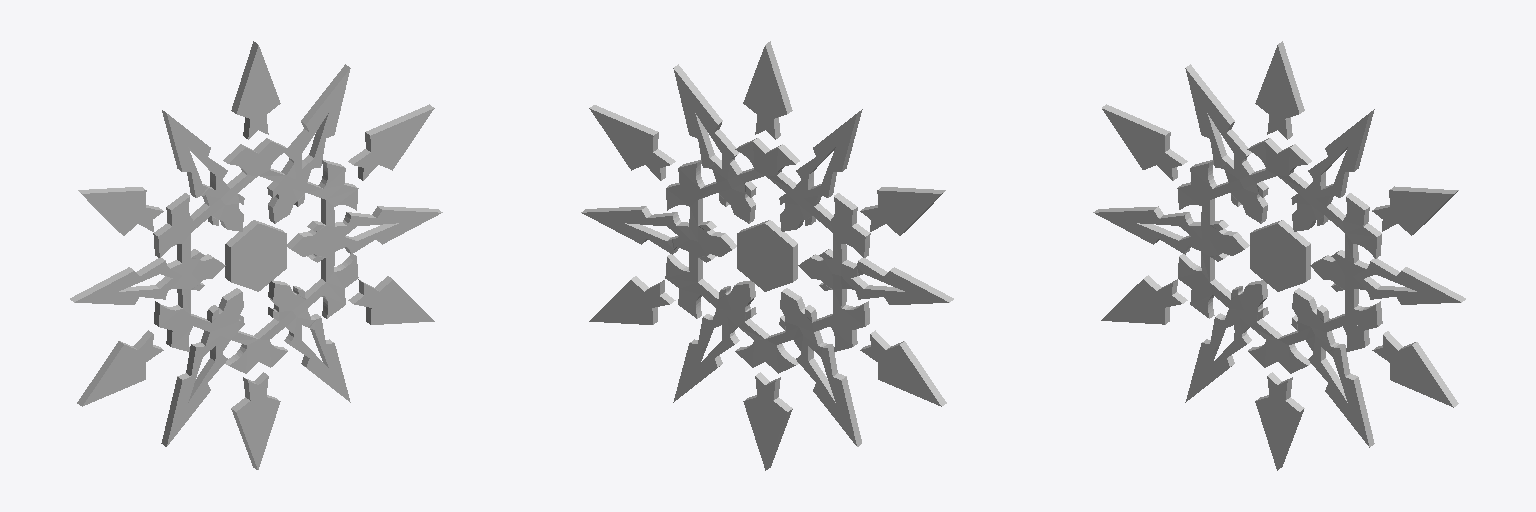
Rendered from snow.obj.
The picture shows the model from 3 angles: view 1: azimuth 30°, elevation 25°; view 2: azimuth 150°, elevation 25°; view 3: azimuth 330°, elevation 25°; orthographic projection.
Visible parts, largest first — view 1: snow; view 2: snow; view 3: snow.
Boxes of the visible parts, <box> form: snow: <box>70,41,442,469</box>; snow: <box>581,41,953,470</box>; snow: <box>1093,41,1465,470</box>.
Size of the model in its own units: 26.14 by 28.87 by 0.6444.